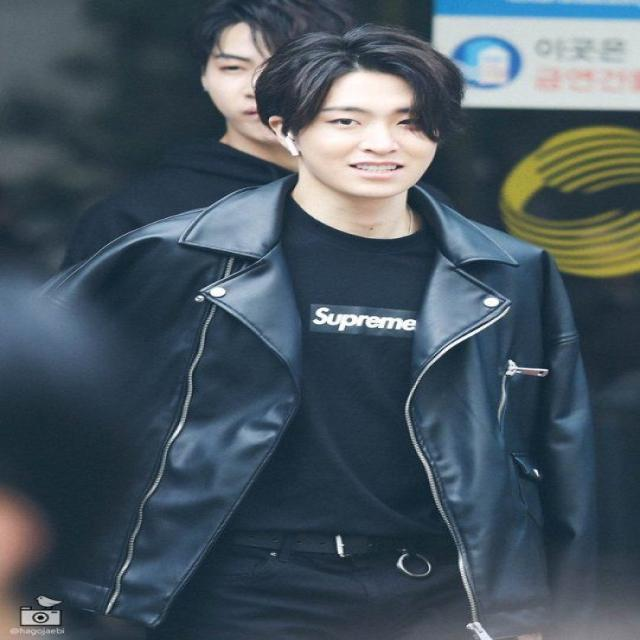earphone: (282, 114, 303, 184)
